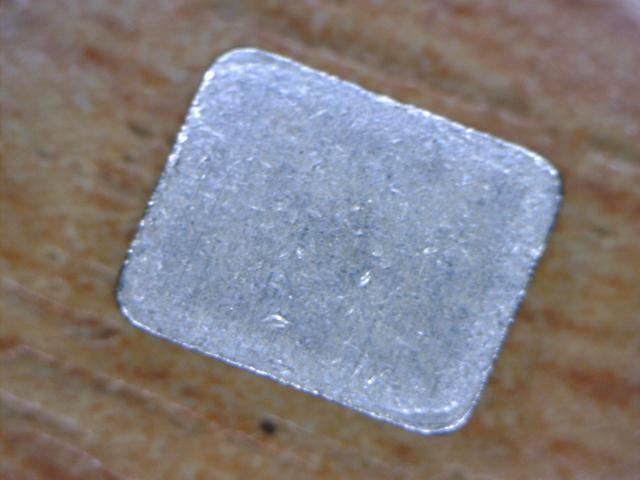ok: (113, 43, 564, 440)
